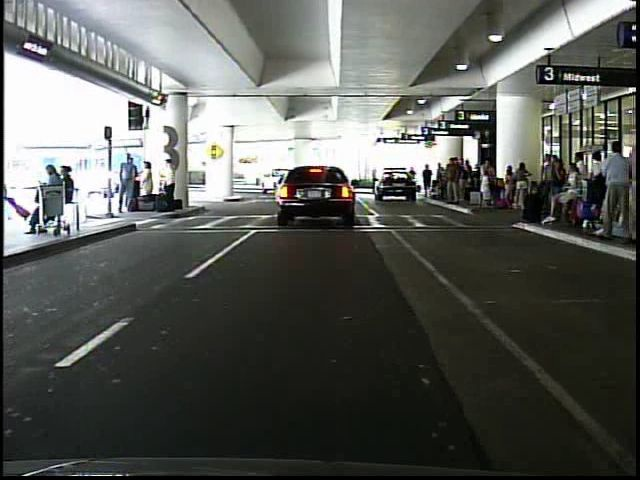person: (592, 138, 631, 237), (112, 151, 141, 216), (162, 155, 178, 211), (142, 160, 158, 208), (422, 162, 435, 197), (408, 162, 418, 192)
